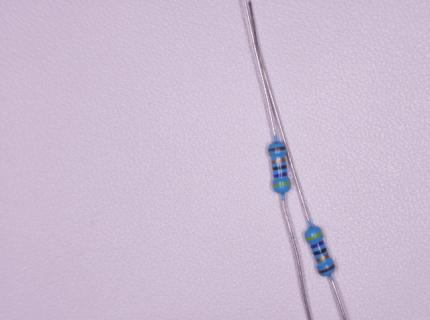Black band: (313, 247, 327, 255), (273, 164, 287, 171)
Brown band: (318, 263, 335, 274), (268, 147, 286, 151)
Gold band: (316, 253, 330, 262), (272, 157, 286, 164)
Violet band: (310, 240, 325, 248), (273, 172, 287, 178)
Yellow band: (305, 231, 323, 241), (272, 181, 291, 187)
